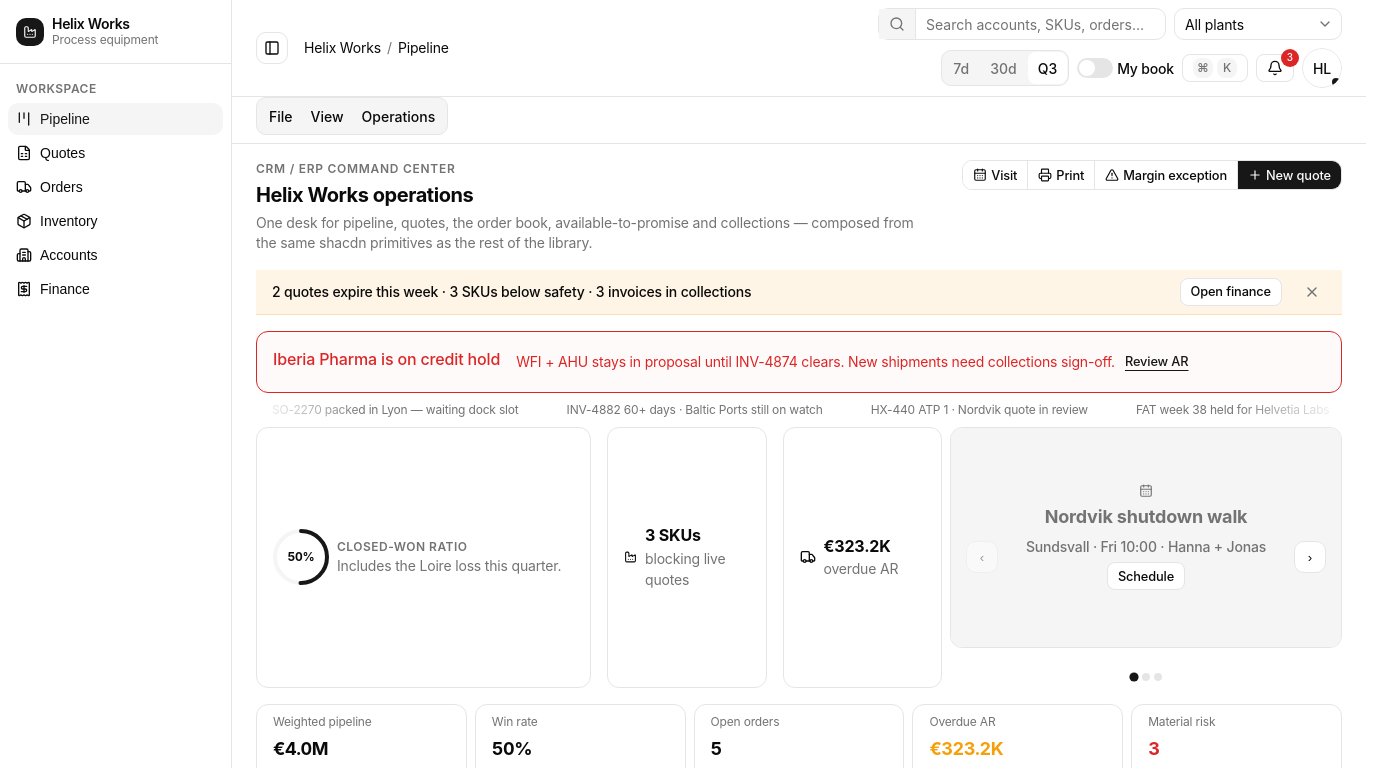
Test: CrmErp › switches the workbench from the sidebar
Click the button "Orders" at coordinates (116, 187), box x1=8 y1=171 x2=223 y2=203
(page scrolled)
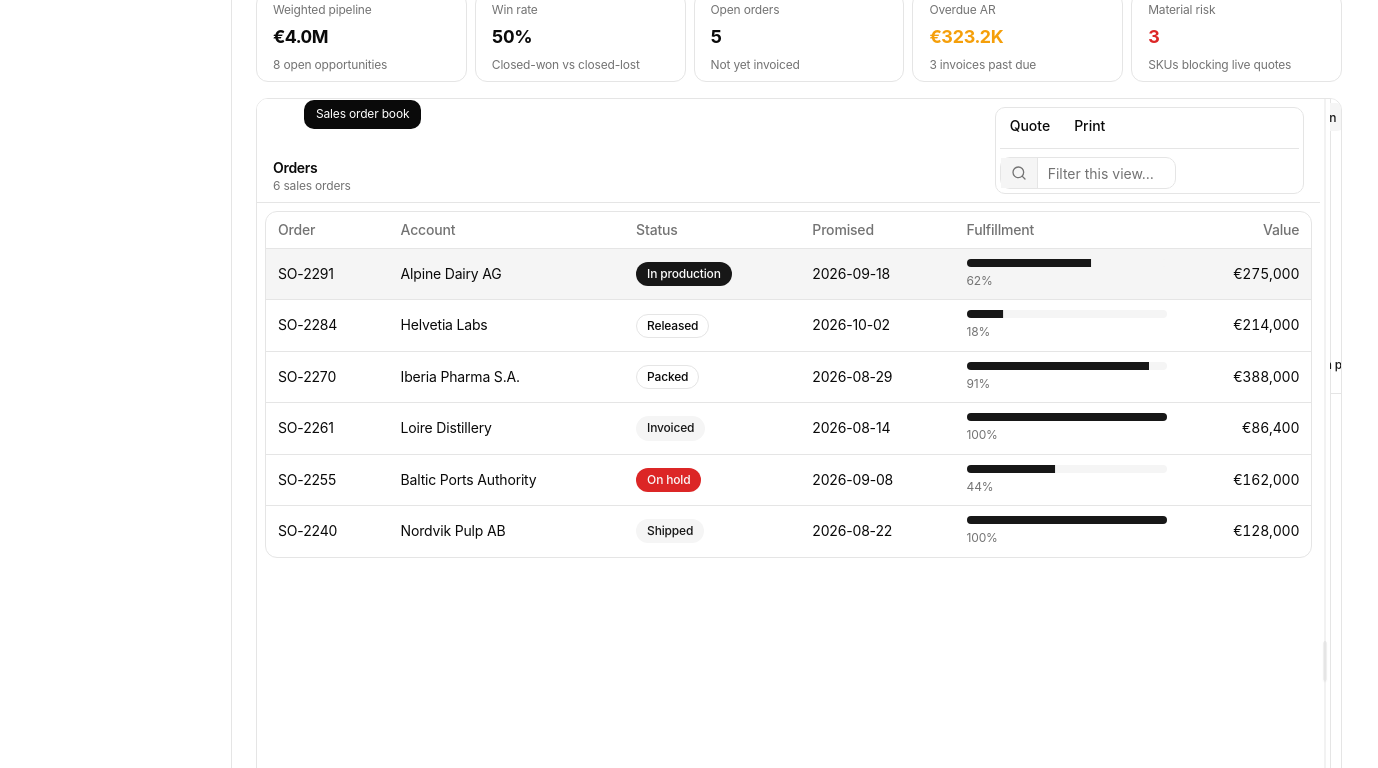
Now the heading "Orders" is shown, box x1=273 y1=159 x2=317 y2=176
Now the table is shown, box x1=266 y1=212 x2=1311 y2=557
